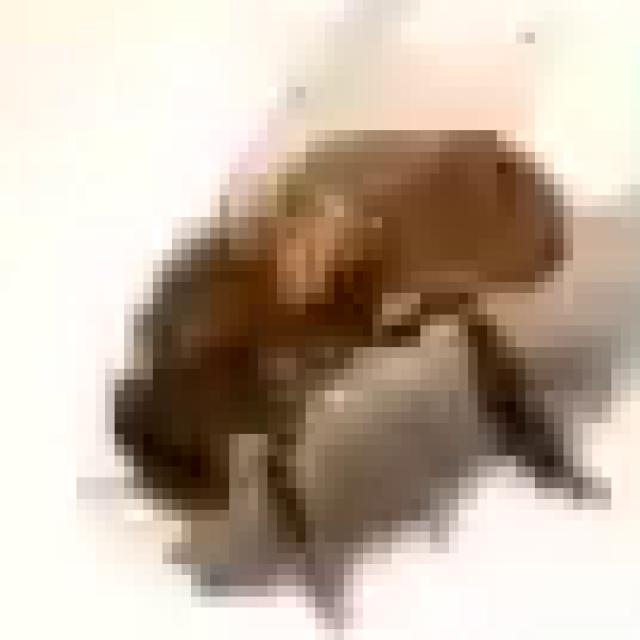honeybee: (96, 73, 609, 605)
